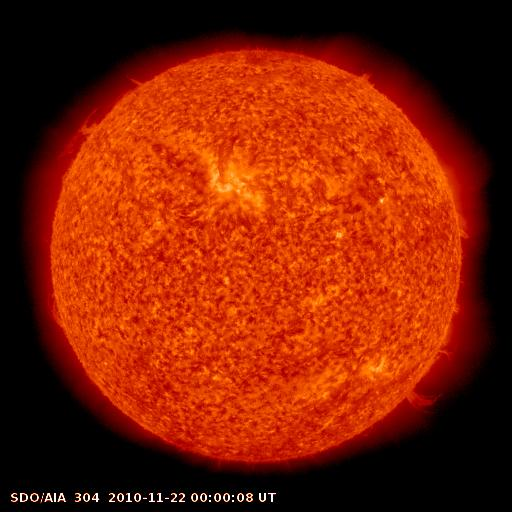prominence: (398, 343, 473, 419), (50, 93, 111, 186), (40, 289, 85, 346), (440, 268, 475, 318), (120, 62, 166, 97), (352, 61, 386, 96)
